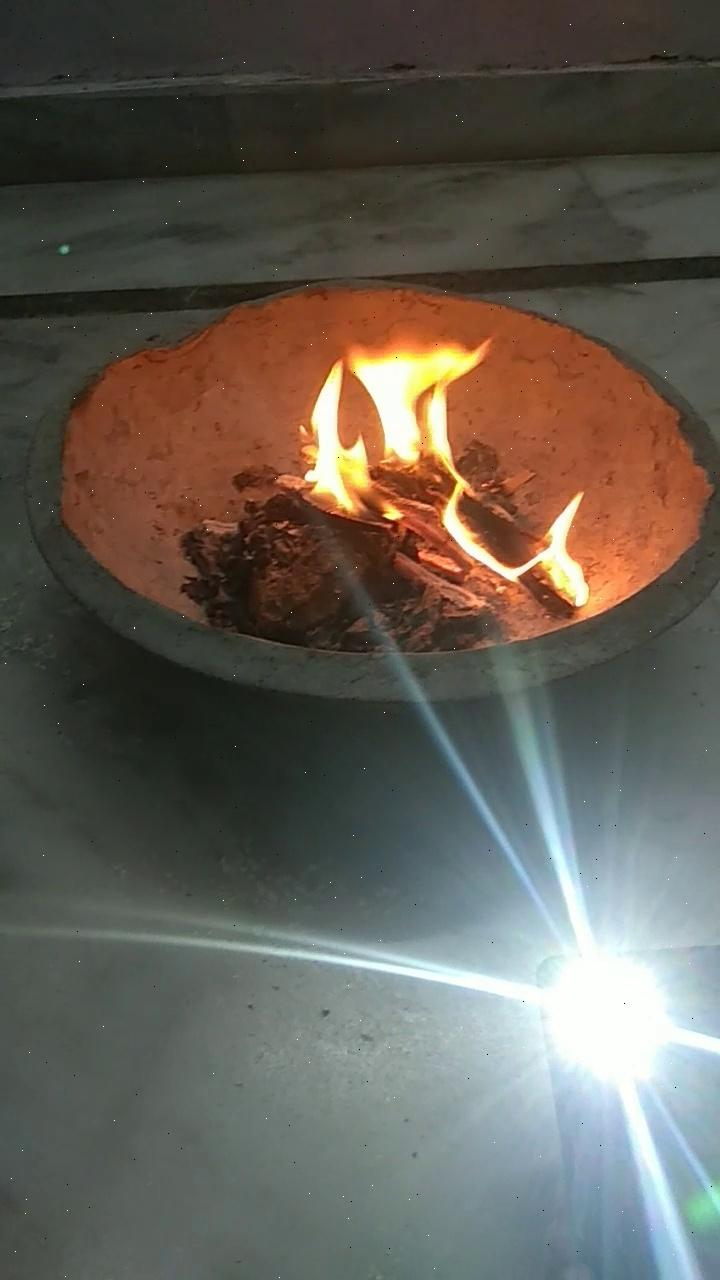fire: (299, 323, 601, 589)
